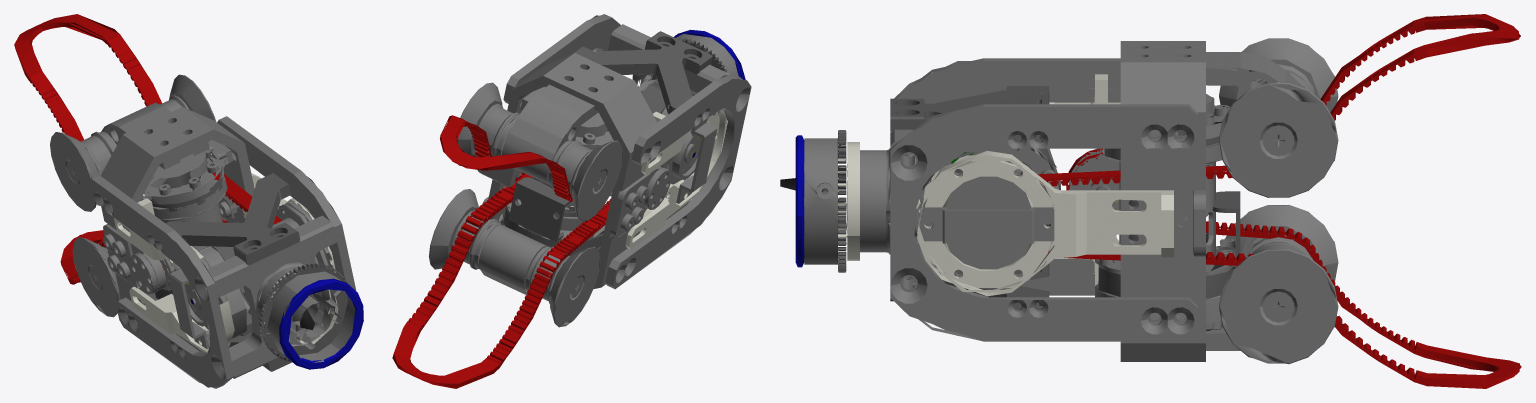
The model's file is arml_elb2_joint.obj.
3 renders of one model, left to right at view 1: azimuth 30°, elevation 25°; view 2: azimuth 150°, elevation 25°; view 3: azimuth 270°, elevation 25°, orthographic. The views are drawn at different scales.
Bounding box in the file's own units: 0.0622 × 0.0874 × 0.1737.
1 material, 1 textured.
